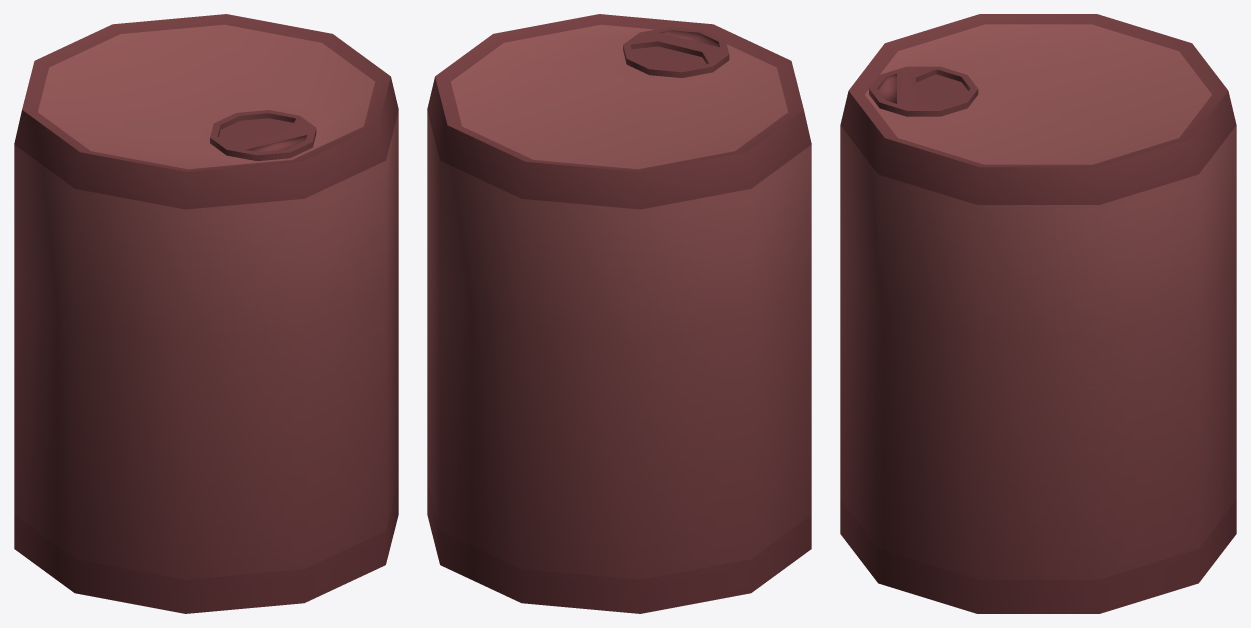
The model's file is can_food_red.fbx.
The picture shows the model from 3 angles, left to right: view 1: azimuth 30°, elevation 25°; view 2: azimuth 150°, elevation 25°; view 3: azimuth 270°, elevation 25°; orthographic projection.
Visible parts, largest first — view 1: can_food_red; view 2: can_food_red; view 3: can_food_red.
Boxes of the visible parts, x1=… form: can_food_red: x1=14, y1=14, x2=398, y2=613; can_food_red: x1=427, y1=14, x2=811, y2=613; can_food_red: x1=840, y1=14, x2=1236, y2=613.
Bounding box in the file's own units: 104 × 135 × 109.
